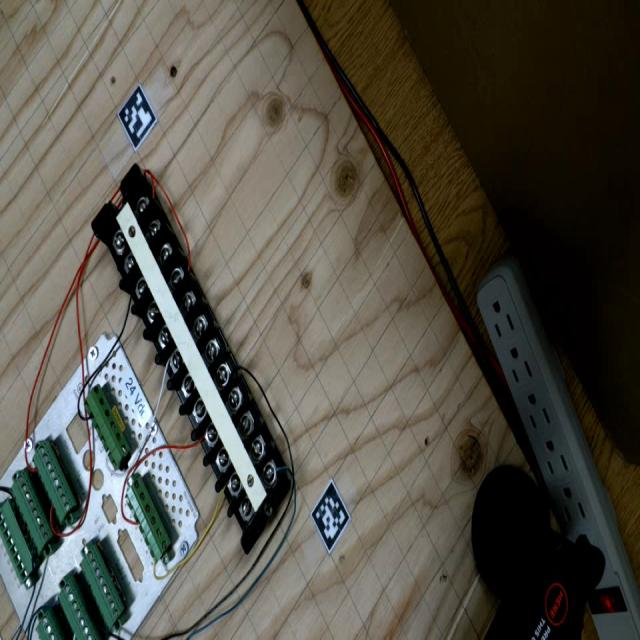Flathead_Block: (76, 162, 309, 555)
Terminal_1: (119, 475, 176, 565), (79, 384, 136, 470)
Terminal_2: (74, 542, 131, 631), (5, 470, 58, 556), (27, 440, 79, 524), (54, 577, 101, 640), (31, 610, 63, 640)
